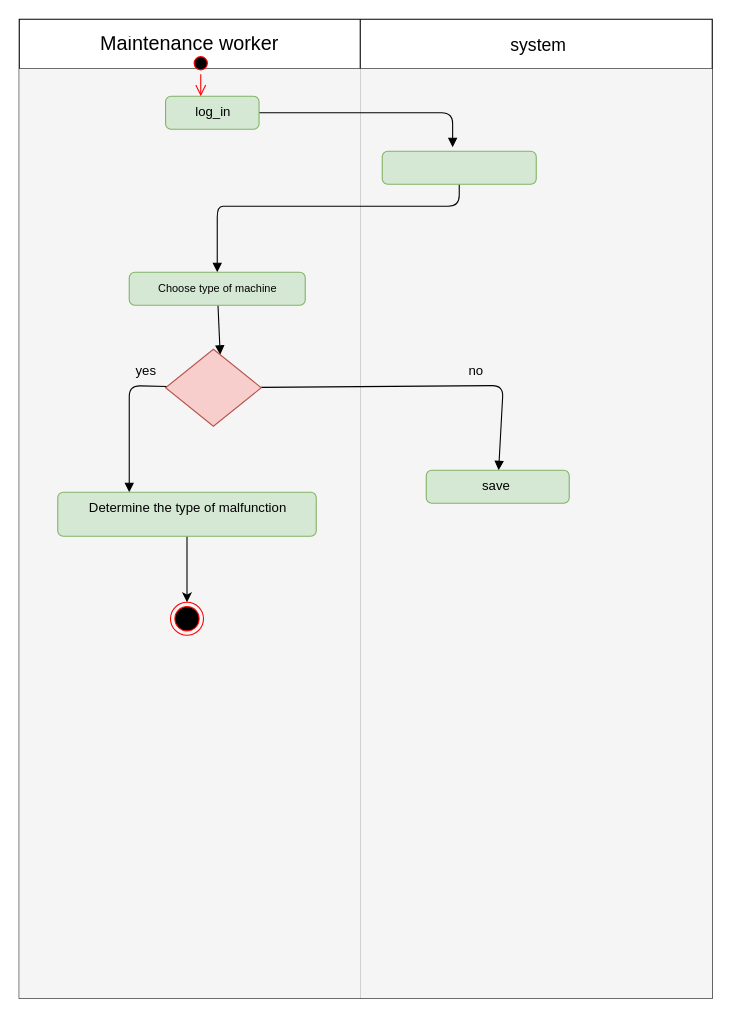
The diagram is 732 pixels wide and 1018 high, and some of its shapes have lost their labels. The centre of each missing label's shape, as x and y in pixels:
"open list" goes at point 458,167.
"There is a malfunction" goes at point 212,387.
